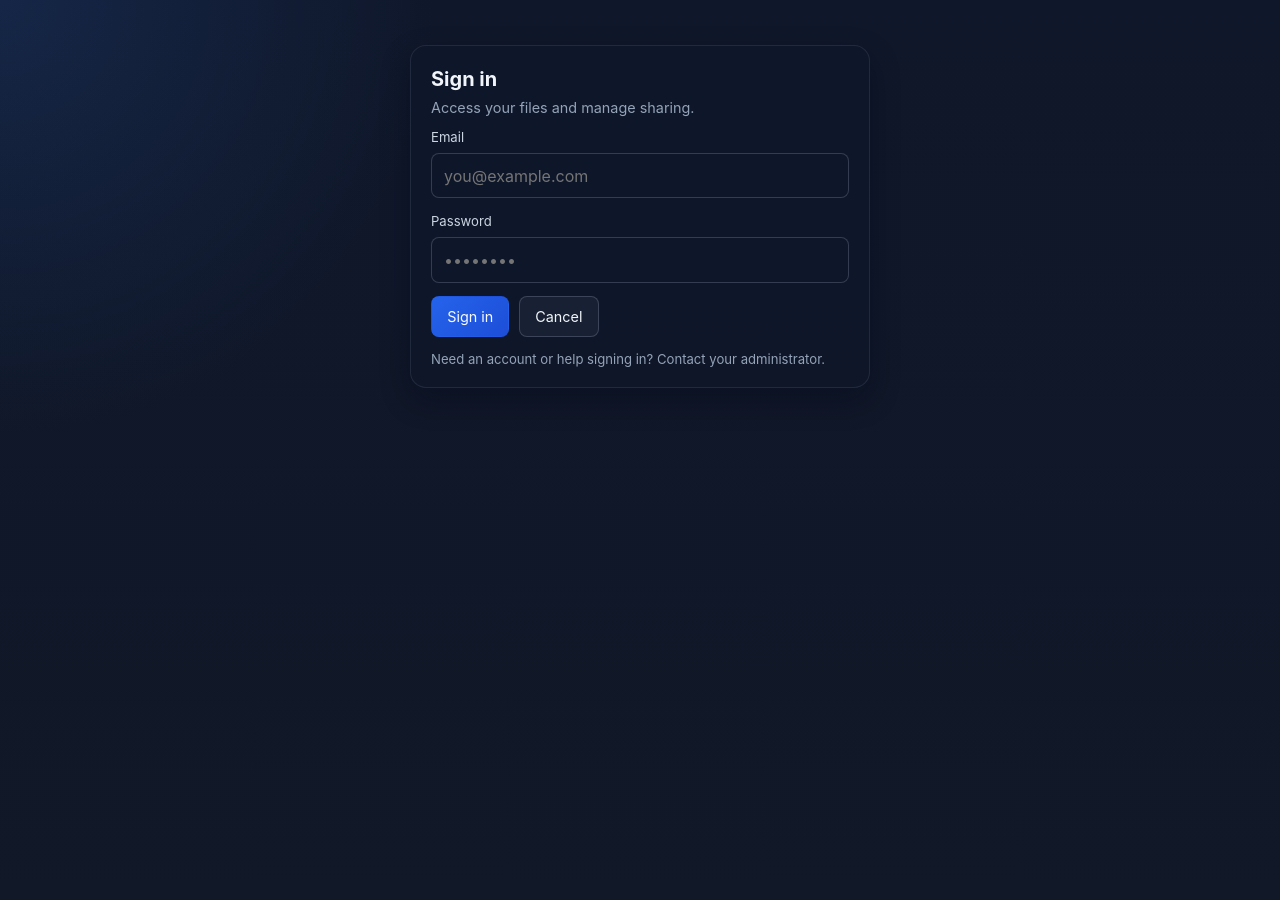
Scenario: LoginPage › completes sign-in and transitions away from the form
Type "admin@example.local" into the field labelled "Email" at point(640, 176), box [431,153,849,198]
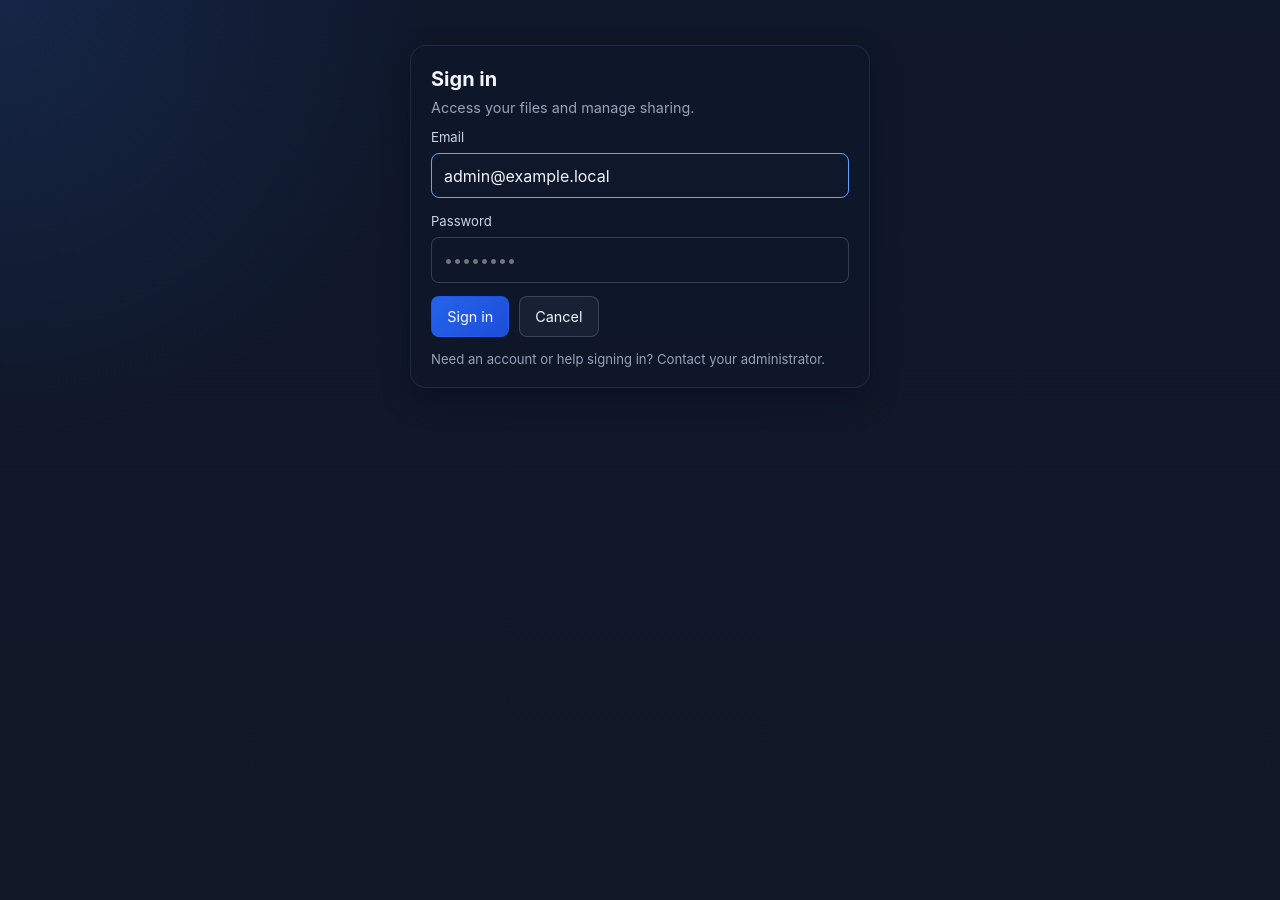
Type "password1" into the password field labelled "Password" at point(640, 260), box [431,237,849,282]
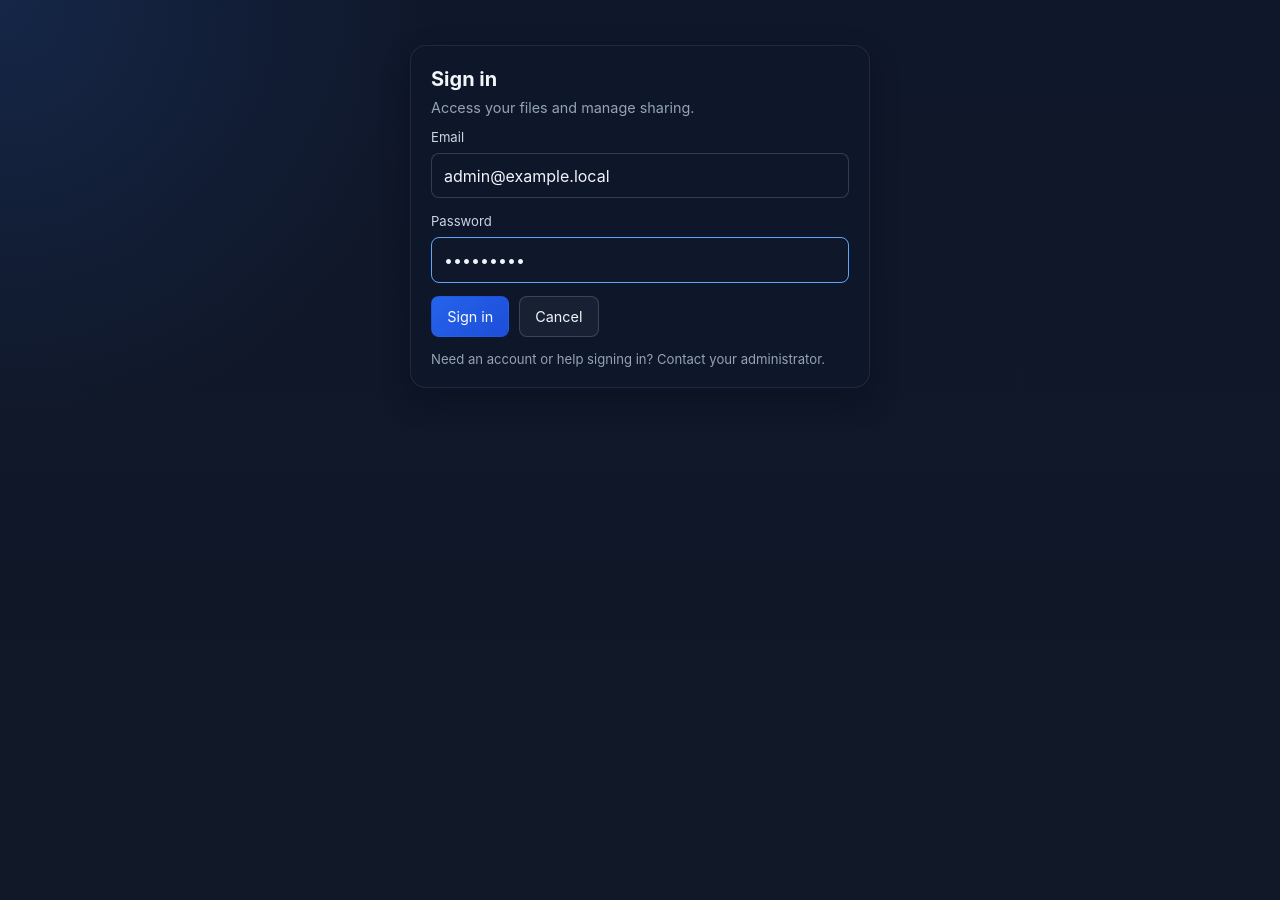
Click the button "Sign in" at point(470, 317), box [431,296,510,337]
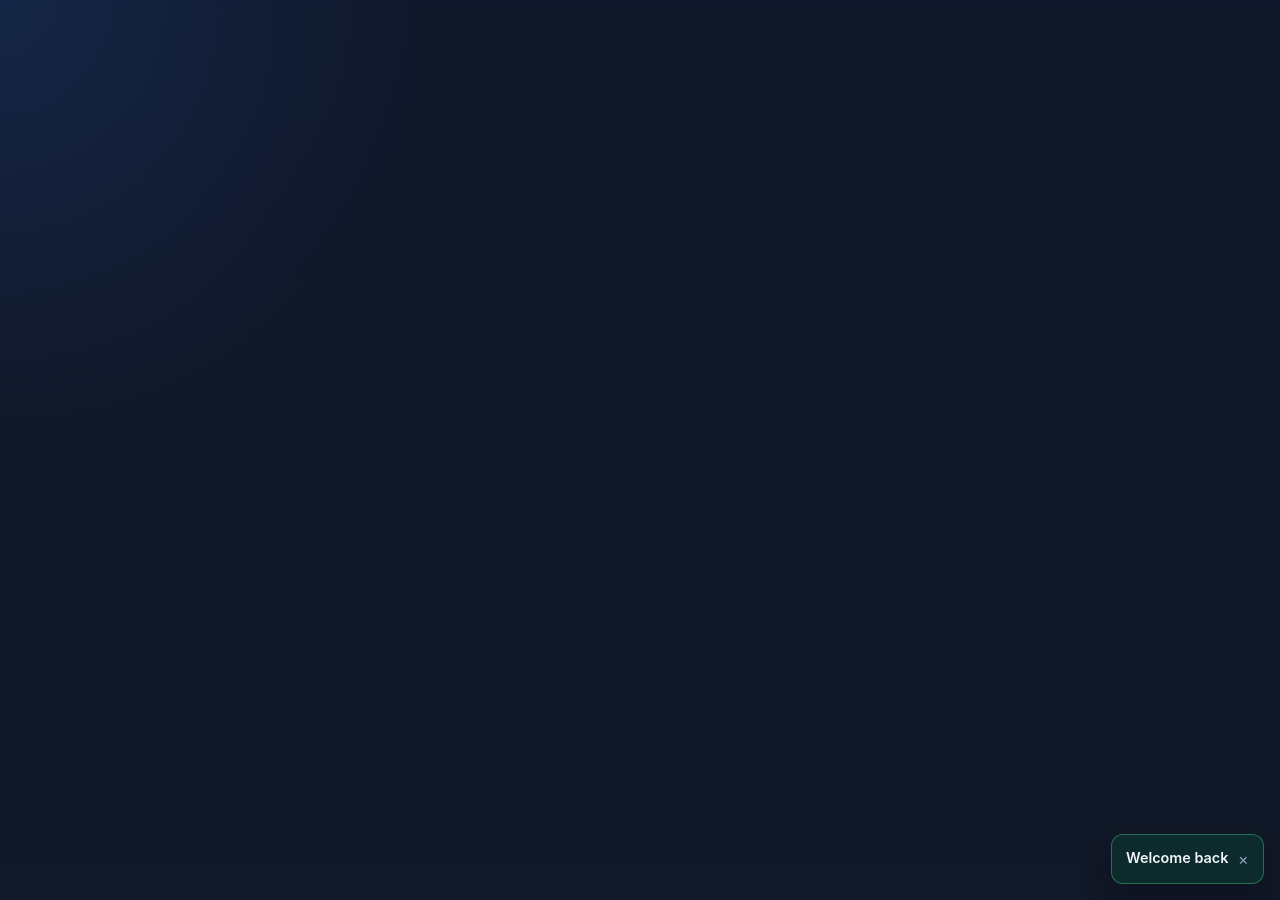
Expected: the heading "Sign in" is gone
